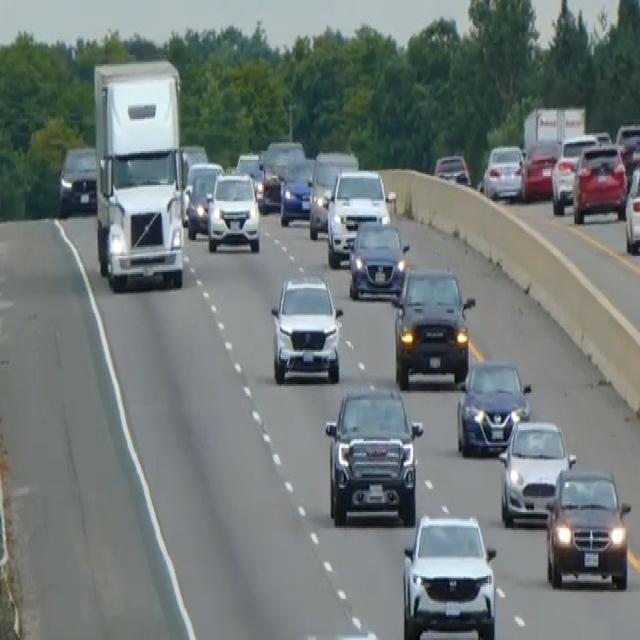car: (401, 510, 497, 638), (544, 462, 631, 590), (393, 263, 474, 388), (497, 416, 575, 528), (269, 274, 343, 384), (455, 357, 531, 457), (325, 167, 391, 267), (347, 217, 409, 300), (571, 139, 627, 224), (308, 149, 358, 240), (206, 169, 260, 252), (550, 132, 601, 212), (259, 137, 305, 210), (183, 160, 222, 238), (58, 144, 97, 217), (481, 142, 524, 201), (520, 139, 560, 201), (279, 156, 314, 226), (235, 149, 265, 199), (624, 160, 639, 254), (433, 151, 471, 187), (615, 119, 639, 167)
jeep: (323, 380, 424, 528)
lorry: (91, 55, 187, 292)
